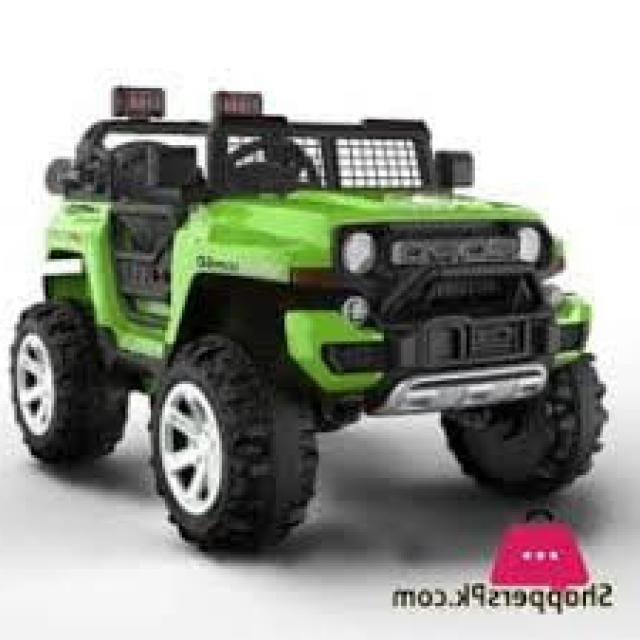Car: (9, 82, 612, 552)
